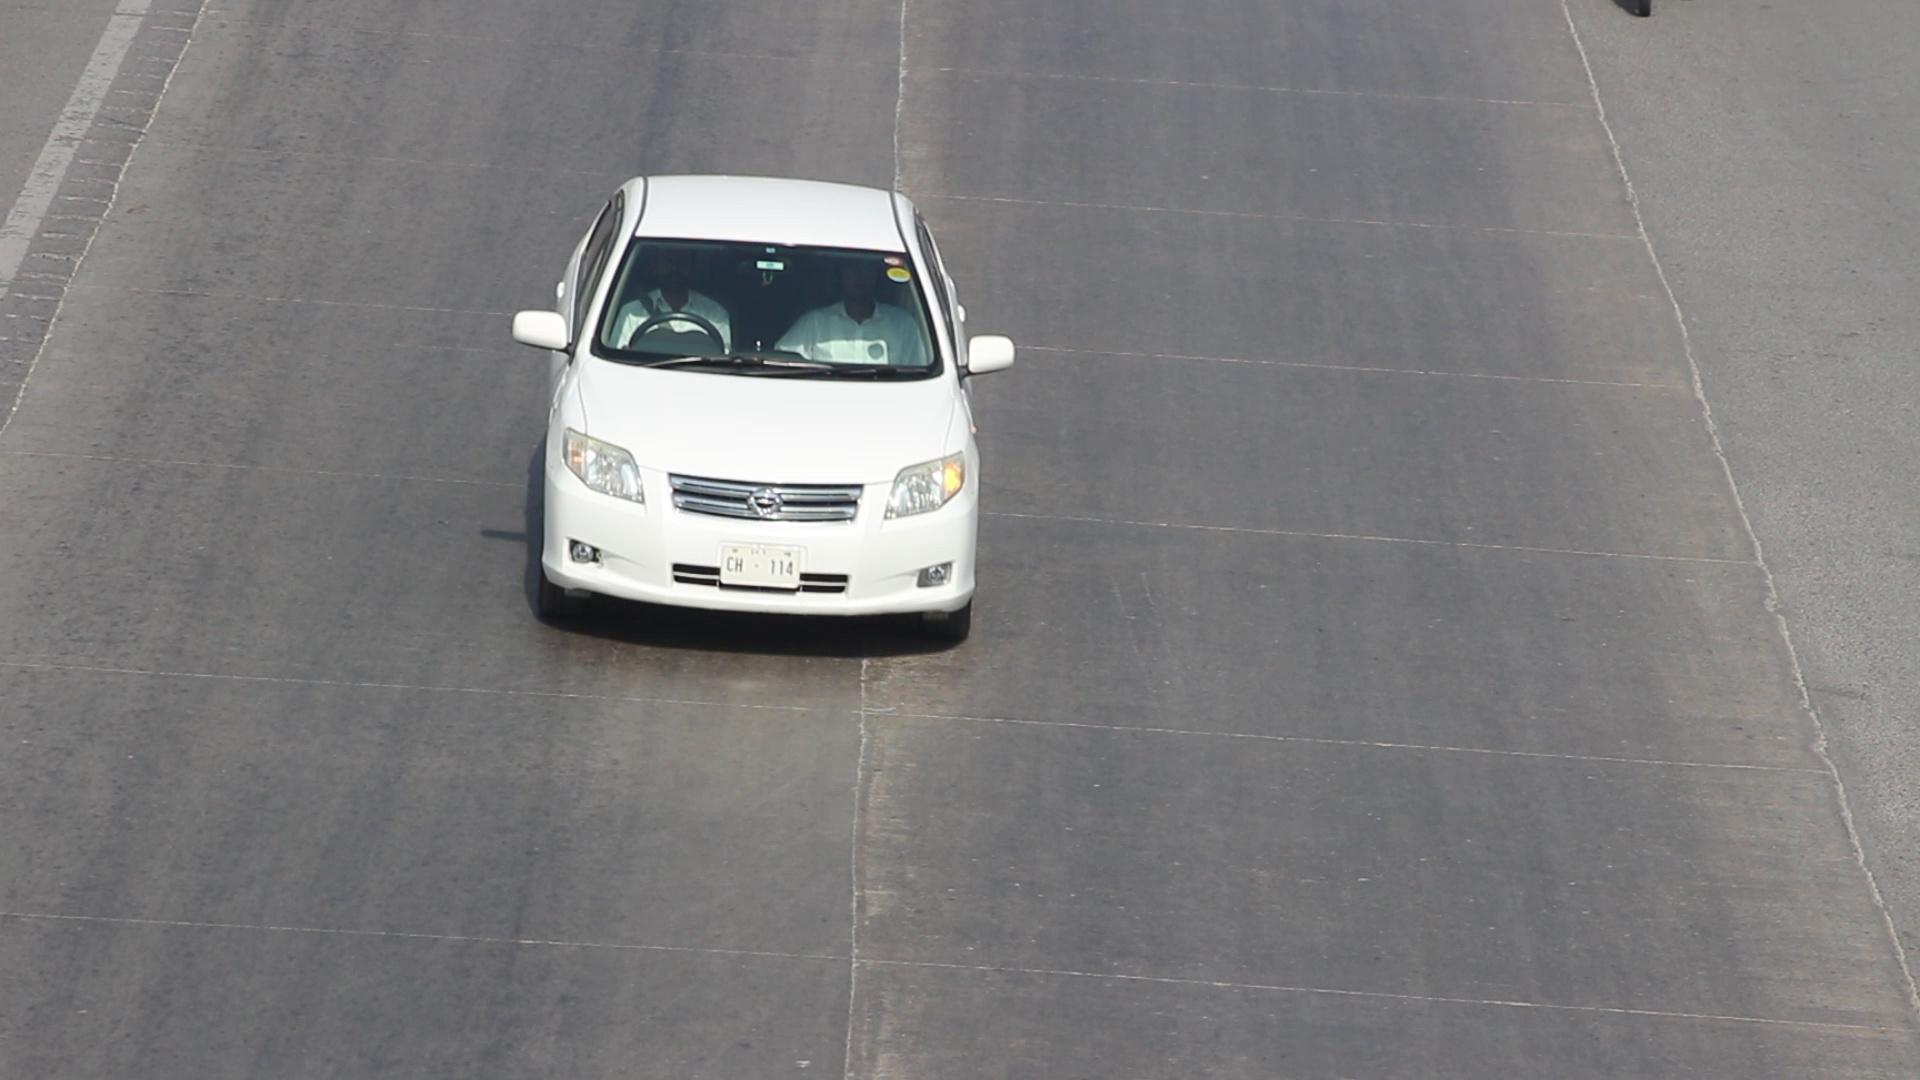windshield: (580, 210, 960, 384)
